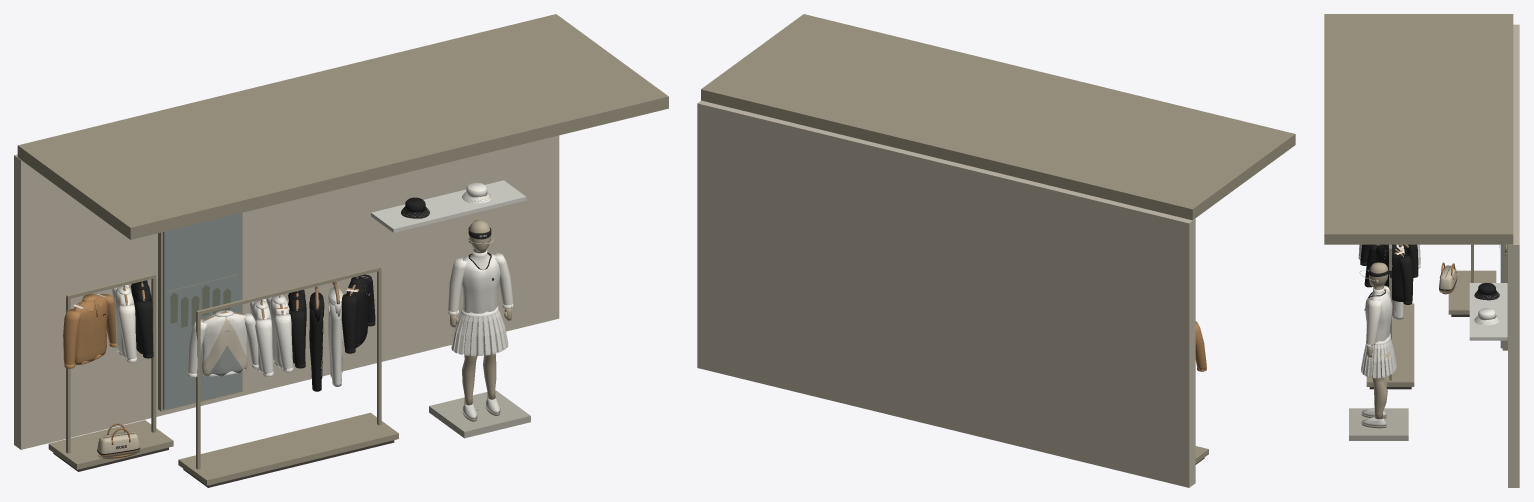
File: gallery.glb
3 views of the same model, side by side, from view 1: azimuth 30°, elevation 25°; view 2: azimuth 150°, elevation 25°; view 3: azimuth 270°, elevation 25° (orthographic). The views are drawn at different scales.
Visible parts, largest first — view 1: BossGolfGangnamFixtures, BossGolfGangnamTextiles; view 2: BossGolfGangnamFixtures; view 3: BossGolfGangnamFixtures, BossGolfGangnamTextiles.
Part boxes in pixels (x1,y1,x2,y2): BossGolfGangnamFixtures: [14, 14, 668, 487]; BossGolfGangnamTextiles: [63, 182, 513, 391]; BossGolfGangnamFixtures: [697, 14, 1295, 487]; BossGolfGangnamFixtures: [1324, 14, 1519, 487]; BossGolfGangnamTextiles: [1358, 244, 1499, 378].
Size of the model in its own units: 5.35 by 2.91 by 2.01.
Materials: 3 (1 with a texture image).
